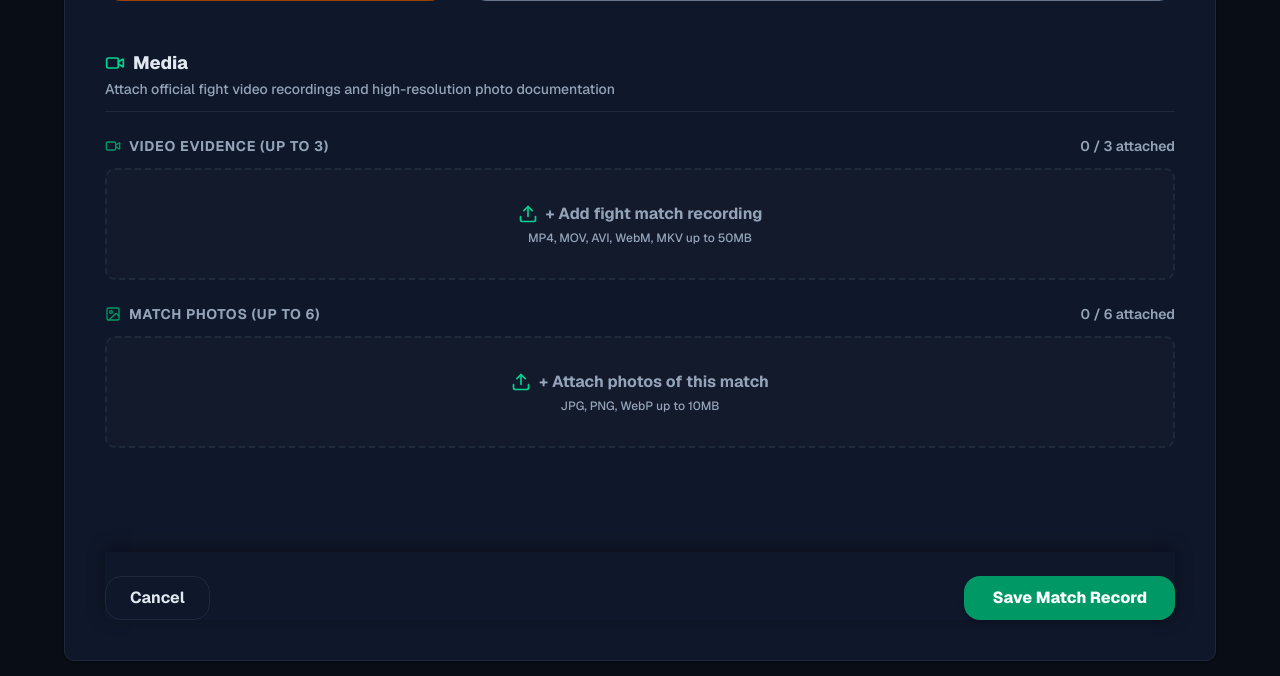
Test: MatchRecordForm › displays inline accessible validation errors when required fields are missing
(page scrolled)
Click the button "Save Match Record".
click(1070, 598)  # box left=964, top=576, right=1175, bottom=620
(page scrolled)
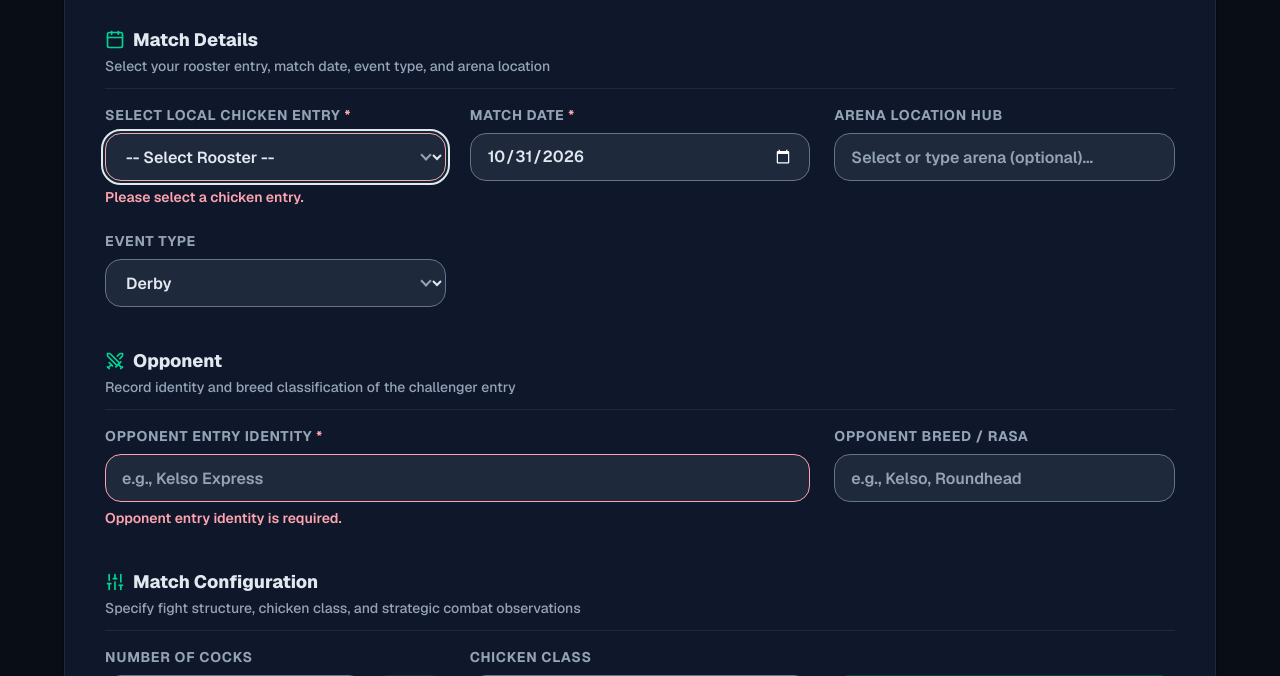
Now the text "Please select a chicken entry." is shown, box left=105, top=188, right=304, bottom=206
Now the text "Opponent entry identity is required." is shown, box left=105, top=509, right=342, bottom=527
